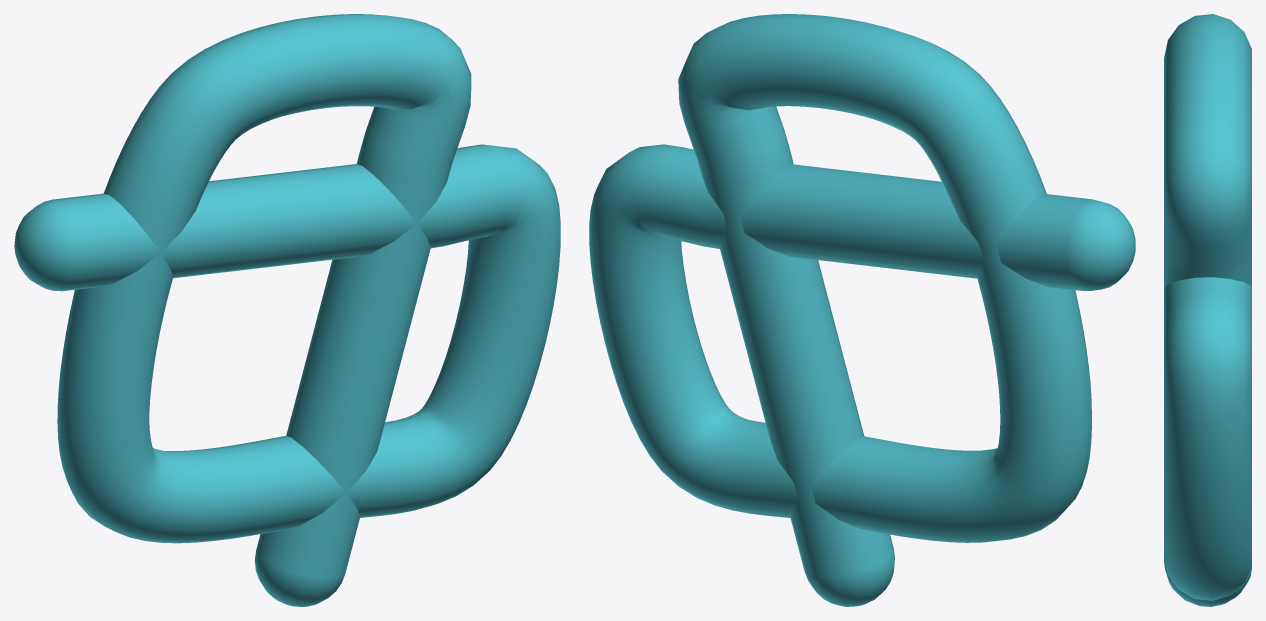
The model's file is icon.glb.
3 renders of one model, left to right at view 1: azimuth 30°, elevation 25°; view 2: azimuth 150°, elevation 25°; view 3: azimuth 270°, elevation 25°, orthographic. The views are drawn at different scales.
Visible parts, largest first — view 1: mesh_id54; view 2: mesh_id54; view 3: mesh_id54.
Boxes of the visible parts, bbox=[...] form: mesh_id54: bbox=[14, 14, 560, 606]; mesh_id54: bbox=[589, 14, 1135, 606]; mesh_id54: bbox=[1164, 14, 1251, 606].
Bounding box in the file's own units: 0.3992 × 0.4137 × 0.0593.
2 materials, 2 textured.
